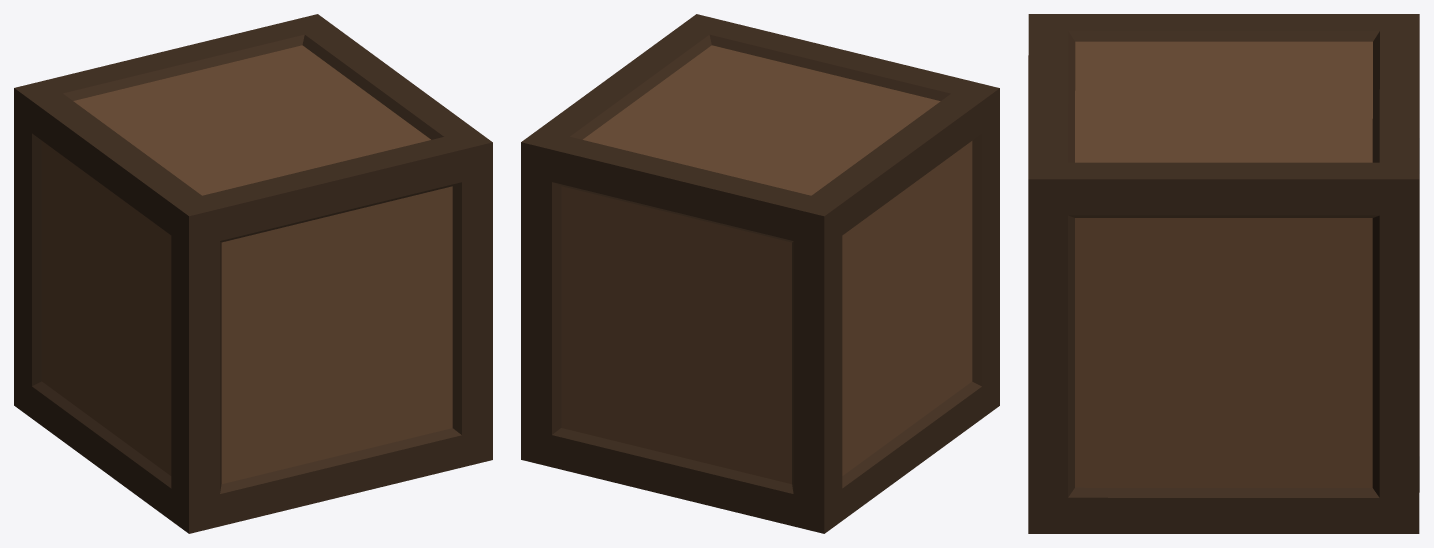
The picture shows the model from 3 angles, left to right: view 1: azimuth 30°, elevation 25°; view 2: azimuth 150°, elevation 25°; view 3: azimuth 270°, elevation 25°; orthographic projection. The views are drawn at different scales.
Visible parts, largest first — view 1: box_2_mat; view 2: box_2_mat; view 3: box_2_mat.
Boxes of the visible parts, <box> form: box_2_mat: <box>14,14,492,533</box>; box_2_mat: <box>521,14,999,533</box>; box_2_mat: <box>1028,14,1419,533</box>.
Bounding box in the file's own units: 38.1 × 38.06 × 38.1.
